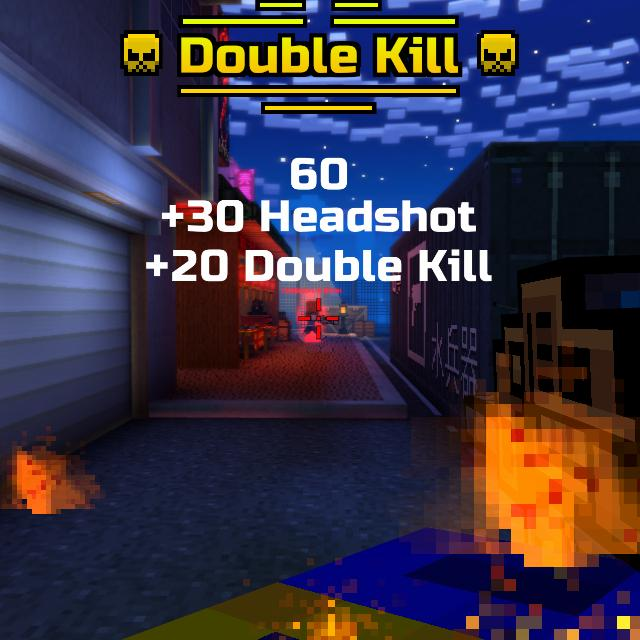Enemy: (298, 301, 327, 342)
